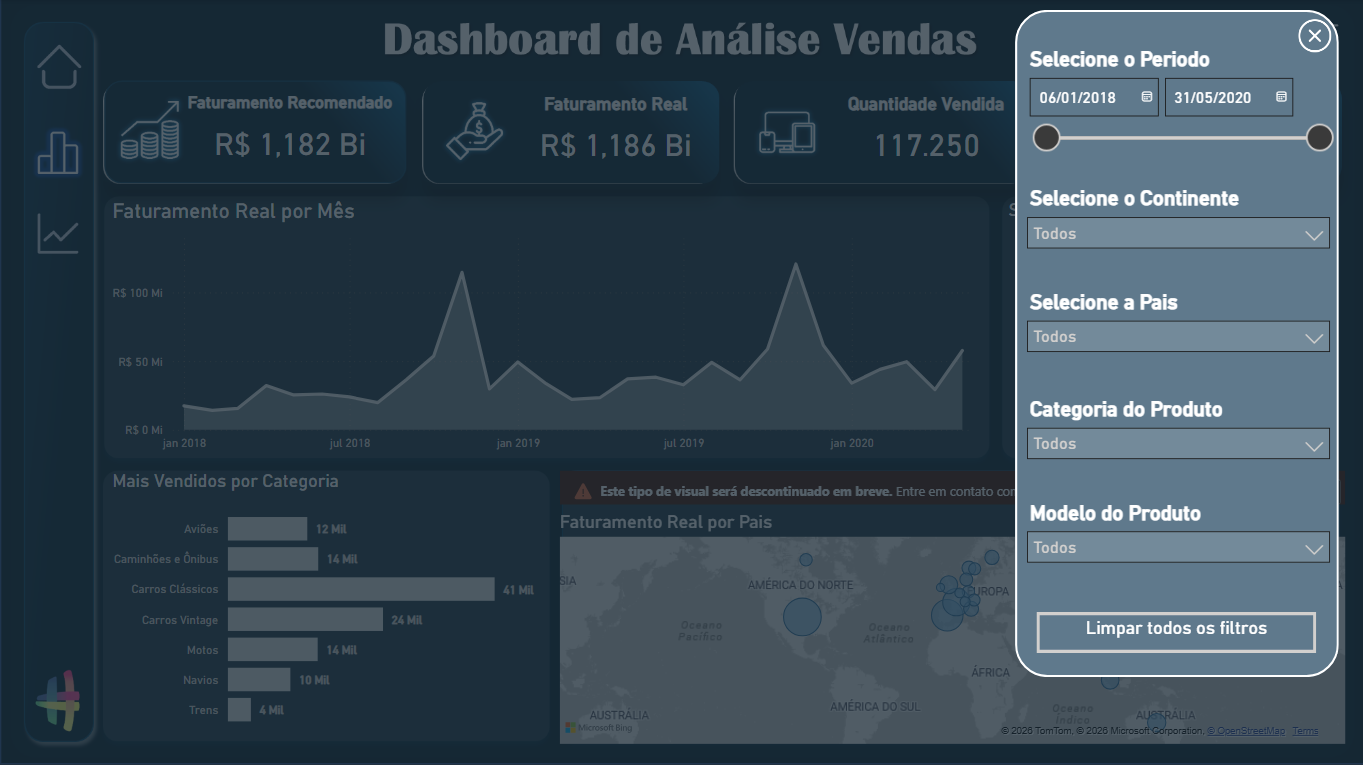

The dashboard page shown, as its layout file describes it:
{"tool":"powerbi","page":{"name":"Inicial","canvas":[1280,720],"ordinal":1},"visuals":[{"type":"card","title":"Faturamento Recomendado","fields":{"Values":["Medidas.Faturamento Total Previsto"]},"box":[168.9,89.5,207,73.8],"z":0},{"type":"card","title":"Faturamento Real","fields":{"Values":["Medidas.Faturamento Total Real"]},"box":[474.6,89.5,203.9,73.6],"z":1000},{"type":"card","title":"Quantidade Vendida","fields":{"Values":["Medidas.Qtde Vendida"]},"box":[770.8,89.5,194.7,73.8],"z":2000},{"type":"card","title":"Desvio de Faturamento","fields":{"Values":["Medidas.Desvio de Preço"]},"box":[1056.3,89.2,199.7,73.6],"z":3000},{"type":"stackedAreaChart","title":"Faturamento Real por Mês","fields":{"Category":["dCalendario.Inicio do Mês"],"Y":["Medidas.Faturamento Total Real"]},"box":[100.4,188.5,827.7,243.2],"z":4000},{"type":"image","title":"Botão de Filtro","box":[1219.2,21.2,39,31.2],"z":5000},{"type":"clusteredBarChart","title":"Mais Vendidos por Categoria","fields":{"Y":["Medidas.Qtde Vendida"],"Category":["dProduto.Categoria"]},"box":[100.4,442.8,413.8,252.1],"z":6000},{"type":"map","title":"Faturamento Real por Pais","fields":{"Category":["dLocalidade.Pais"],"Size":["Medidas.Faturamento Total Real"]},"box":[519.8,442.8,746.2,261],"z":7000},{"type":"actionButton","title":"Botão Capa","box":[22.3,37.2,68.3,60.8],"z":8000},{"type":"donutChart","title":"Status dos Produtos","fields":{"Y":["Medidas.Qtde Vendida"],"Series":["fVendas.Porte da Venda1"]},"box":[940.3,188.5,317.9,243.2],"z":9000},{"type":"actionButton","box":[22.6,191.3,67.8,57.1],"z":11000},{"type":"actionButton","title":"Botão Capa","box":[21.1,187.5,68.3,60.8],"z":12000}]}

Visuals, with their boxes on the page's 1280x720 design canvas (x1, y1, x2, y2). These are canvas units, not pixel positions in the 1363x765 screenshot, which may show the page scaled, cropped or inside an application window:
"Faturamento Recomendado" card: bbox(169, 90, 376, 163)
"Faturamento Real" card: bbox(475, 90, 678, 163)
"Quantidade Vendida" card: bbox(771, 90, 966, 163)
"Desvio de Faturamento" card: bbox(1056, 89, 1256, 163)
"Faturamento Real por Mês" stackedAreaChart: bbox(100, 188, 928, 432)
"Botão de Filtro" image: bbox(1219, 21, 1258, 52)
"Mais Vendidos por Categoria" clusteredBarChart: bbox(100, 443, 514, 695)
"Faturamento Real por Pais" map: bbox(520, 443, 1266, 704)
"Botão Capa" actionButton: bbox(22, 37, 91, 98)
"Status dos Produtos" donutChart: bbox(940, 188, 1258, 432)
actionButton: bbox(23, 191, 90, 248)
"Botão Capa" actionButton: bbox(21, 188, 89, 248)
